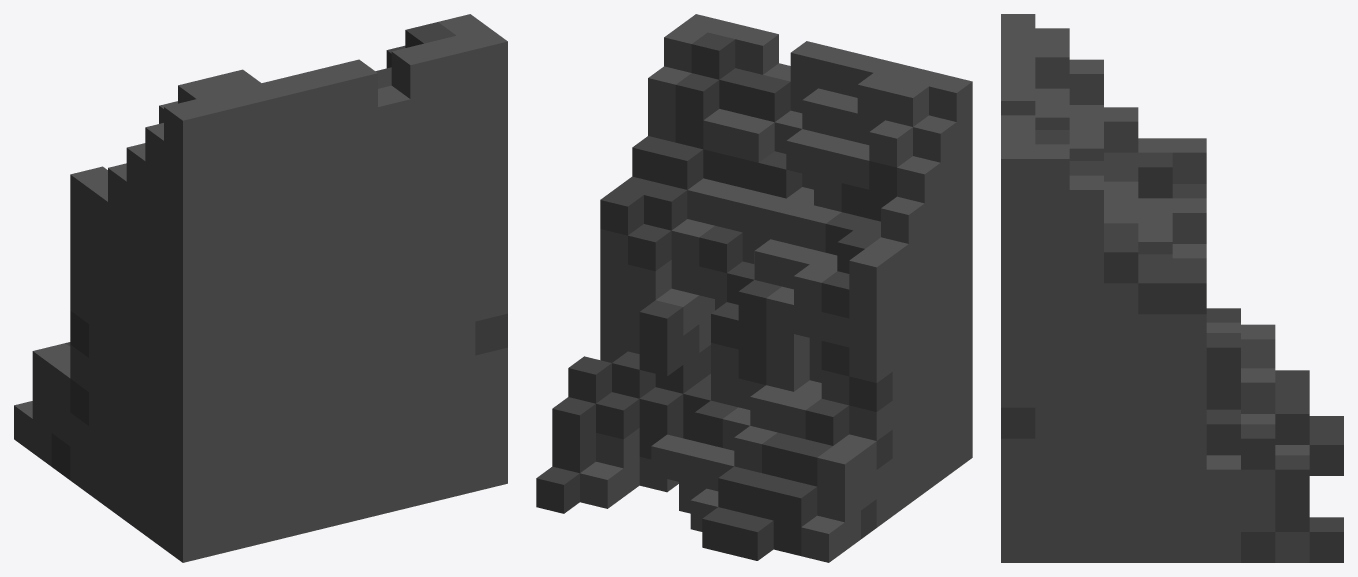
Rendered from Stein_Rand-0.3.obj.
3 renders of one model, left to right at view 1: azimuth 30°, elevation 25°; view 2: azimuth 150°, elevation 25°; view 3: azimuth 270°, elevation 25°, orthographic. The views are drawn at different scales.
Size of the model in its own units: 1 by 1.3 by 1.
Materials: 1 (1 with a texture image).
